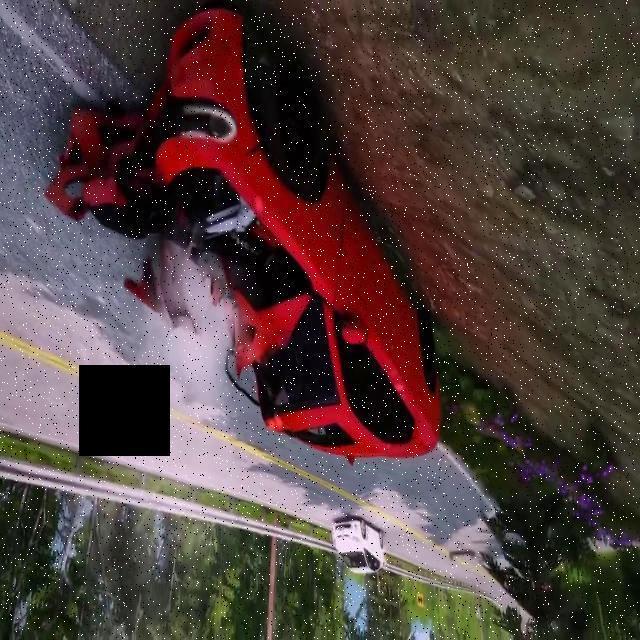severe: (40, 2, 448, 466)
